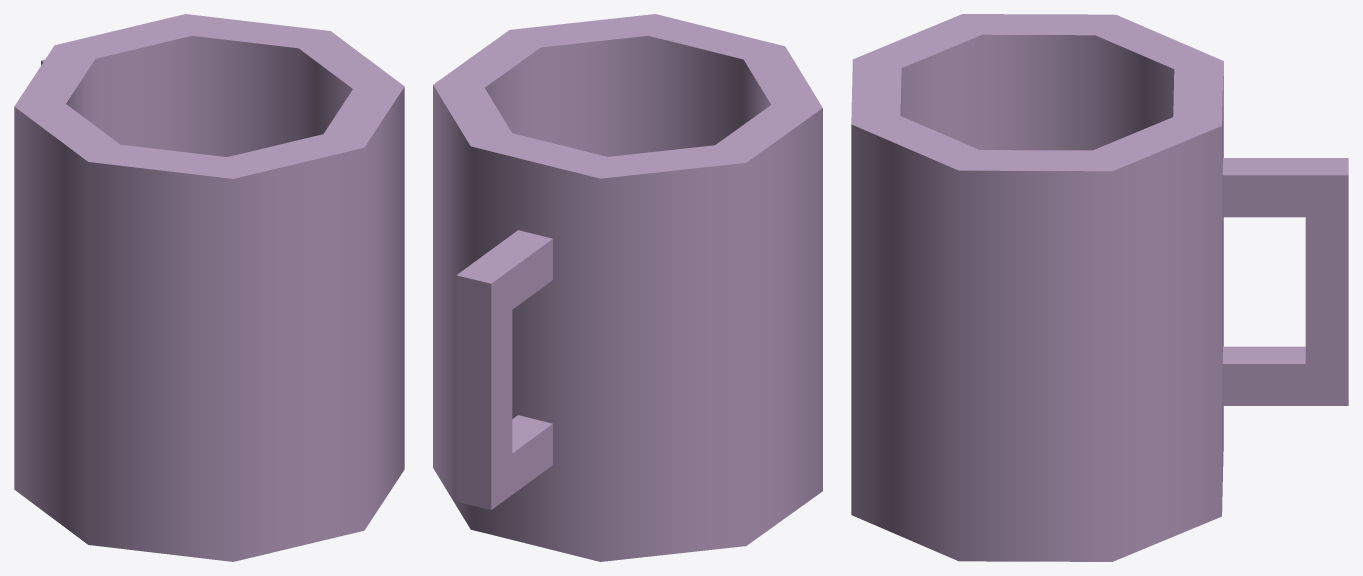
File: cup.fbx
The picture shows the model from 3 angles, left to right: view 1: azimuth 30°, elevation 25°; view 2: azimuth 150°, elevation 25°; view 3: azimuth 270°, elevation 25°; orthographic projection. The views are drawn at different scales.
Parts seen in each view (by area): view 1: Cylinder; view 2: Cylinder; view 3: Cylinder.
Boxes of the visible parts, box(x1,y1,x2,y2) form: Cylinder: box(14, 14, 404, 561); Cylinder: box(433, 14, 822, 561); Cylinder: box(851, 14, 1348, 561).
Bounding box in the file's own units: 20.83 × 15.59 × 18.06.
